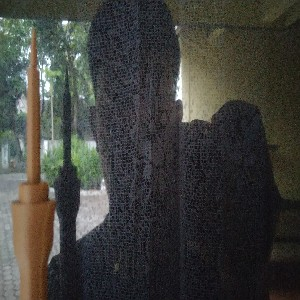solder: (9, 29, 58, 300)
